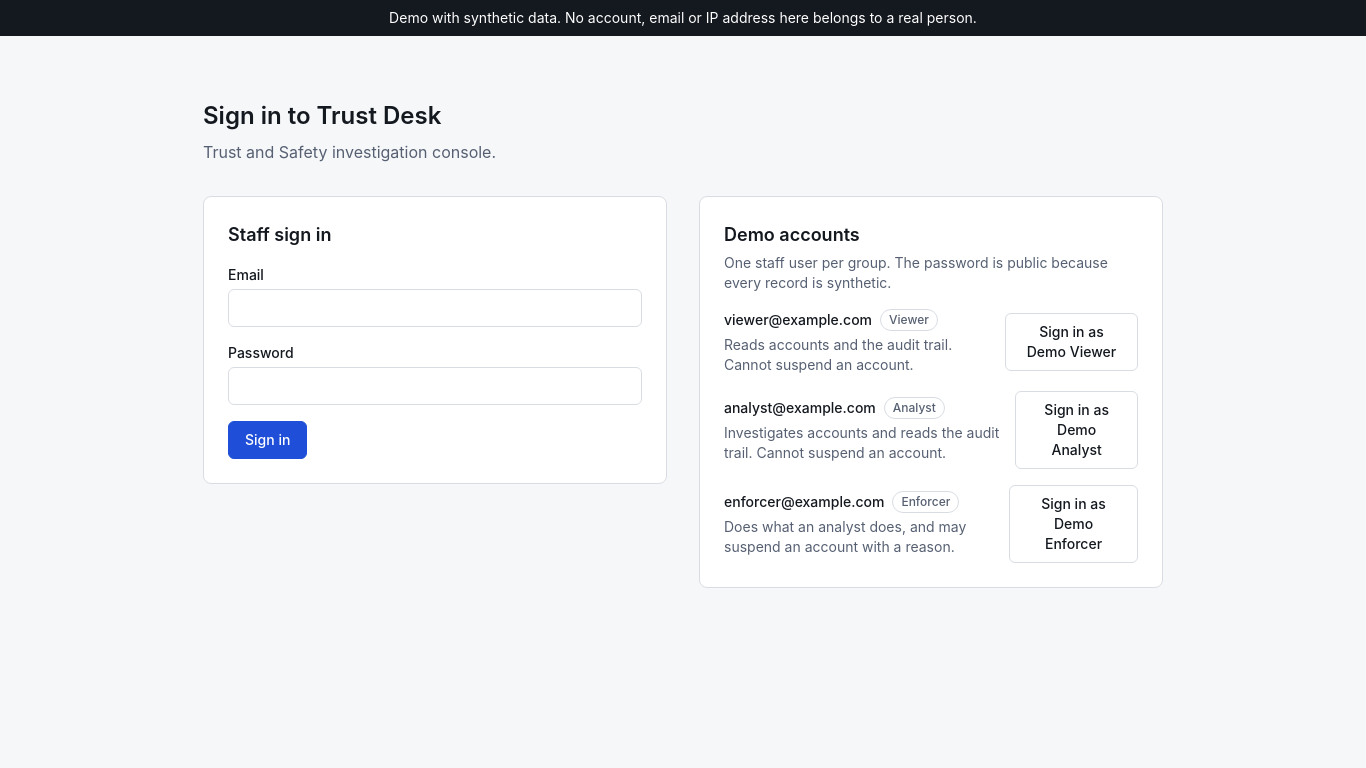
Scenario: routes › sends a signed-out visitor to the login page, then back to where they were going
Click the button "Sign in as Demo Analyst": (1077, 430) [1015, 391, 1138, 469]
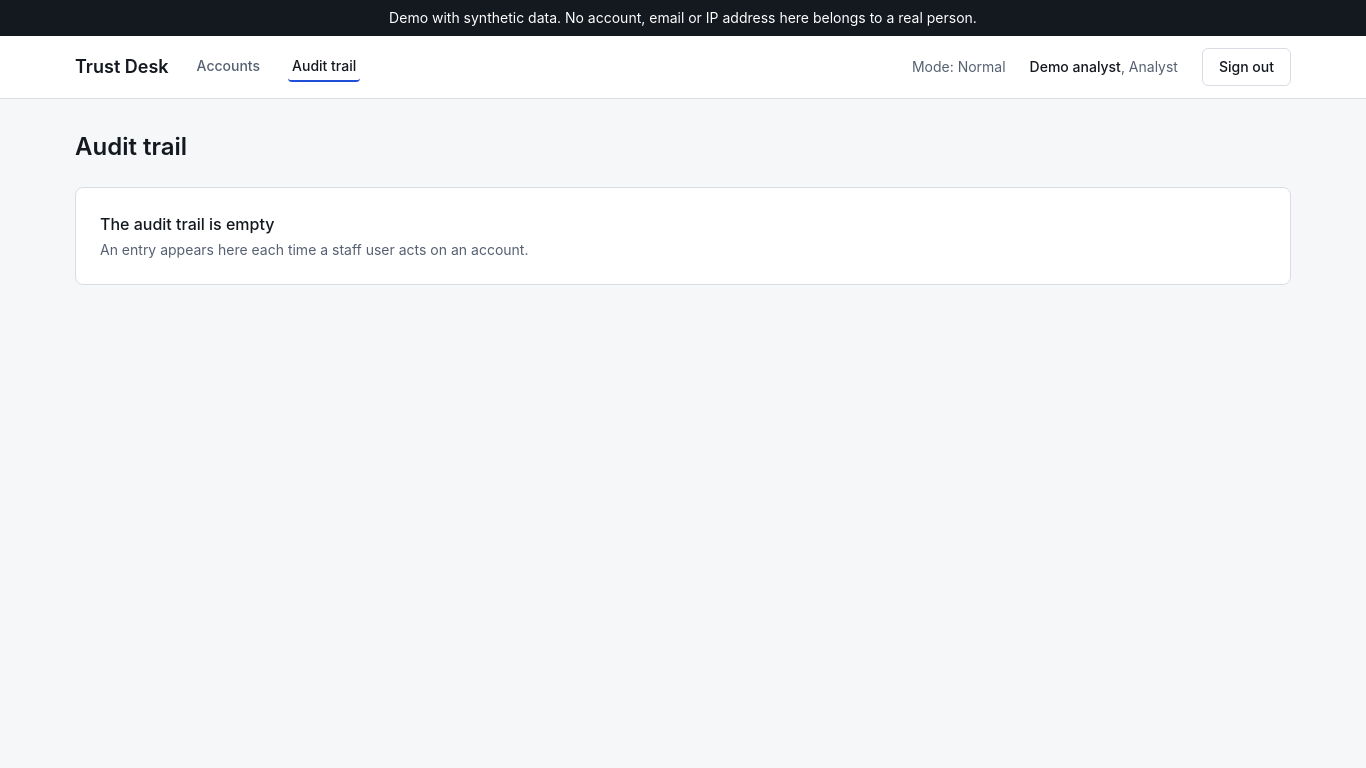
expect the heading "Audit trail" is shown: met, box [75, 132, 187, 161]
